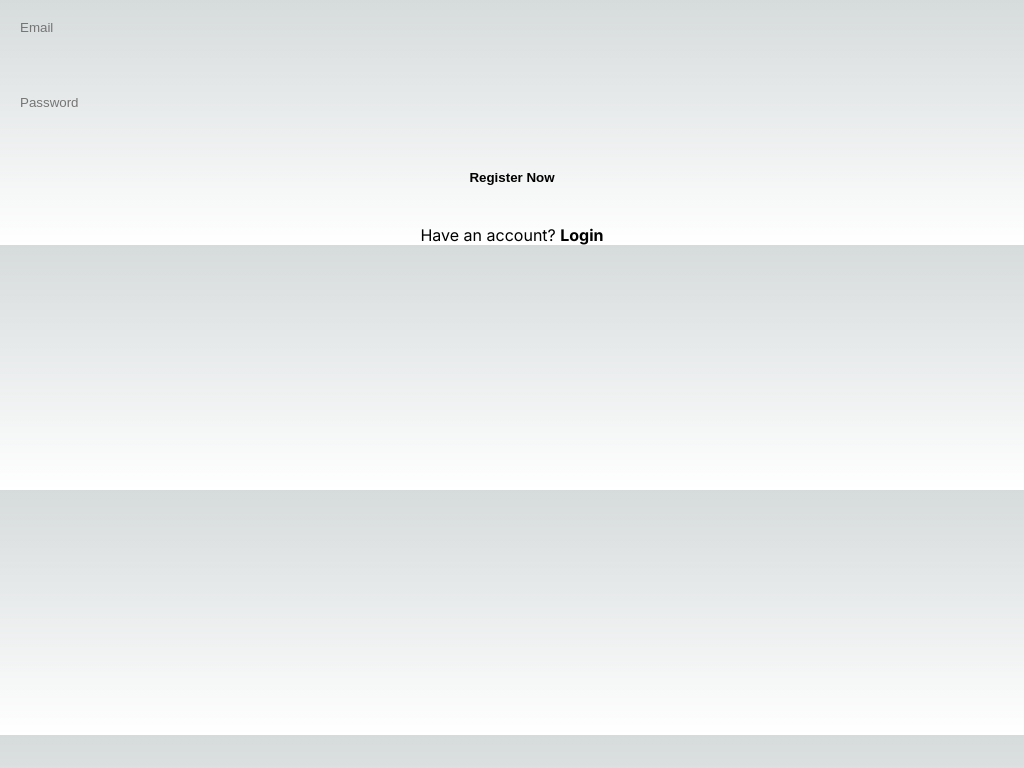
Test case: register page › Should show validation errors when leaving all fields blank
Click the button with test id "submit" at coordinates (512, 178), box [0,150,1023,205]
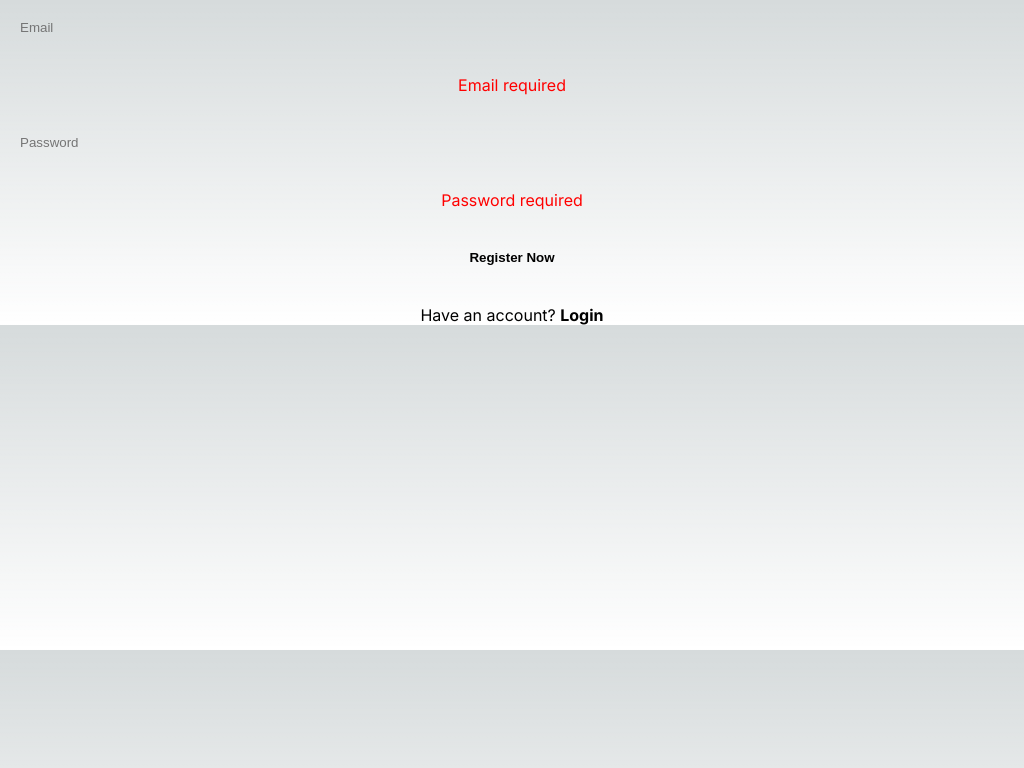
Expected: the text "Email required" is shown, [458,75,566,95]
Expected: the text "Password required" is shown, [441,190,583,210]
